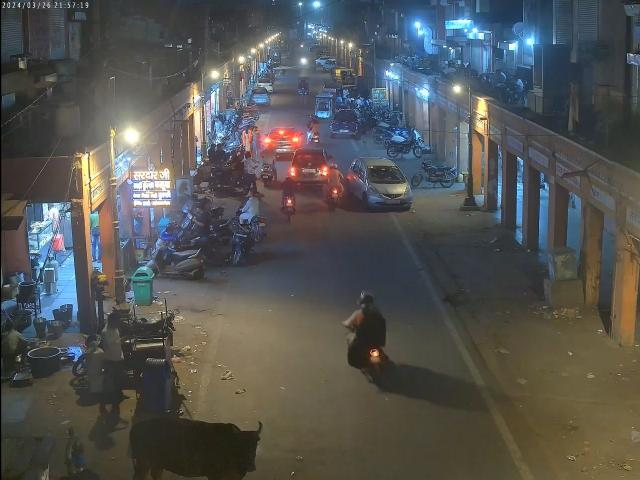car: (340, 156, 412, 212)
cattle: (124, 405, 267, 480)
helmet: (354, 292, 376, 310)
motorbike: (415, 164, 460, 189), (384, 129, 416, 158)
motorbike-rider: (340, 291, 391, 393), (233, 192, 267, 242)
person: (97, 314, 128, 384)
scooty: (155, 239, 207, 280)
